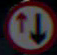Two way: (5, 5, 50, 47)
